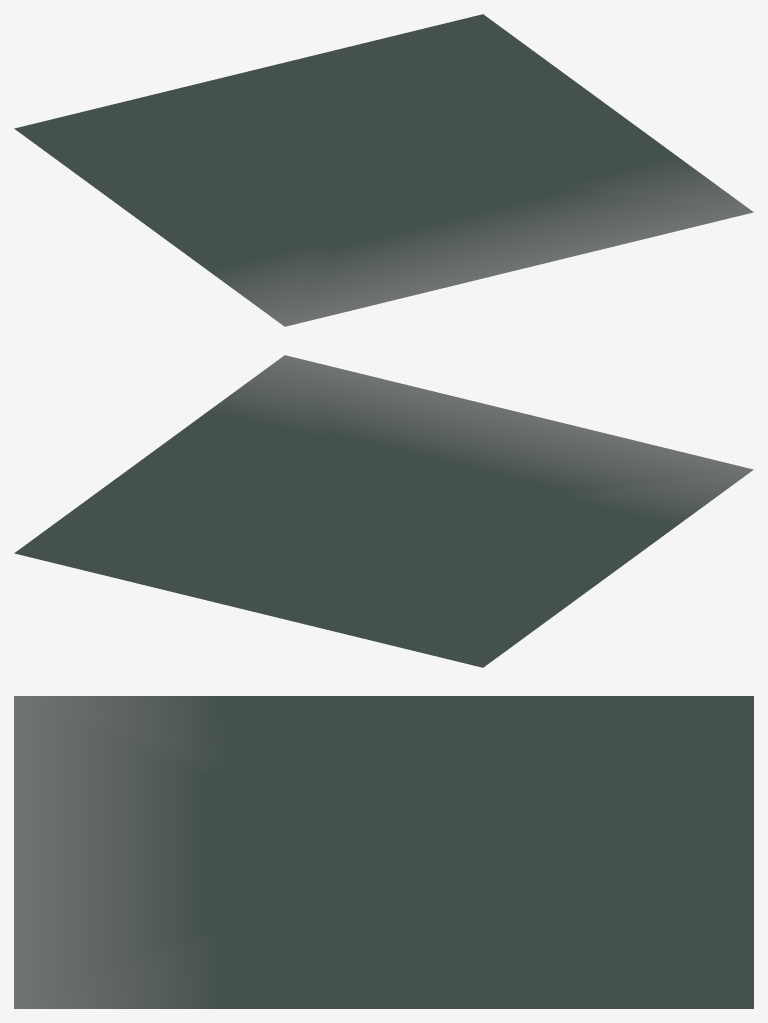
Rendered from Floor #1088803.fbx.
3 views of the same model, one above another, from view 1: azimuth 30°, elevation 25°; view 2: azimuth 150°, elevation 25°; view 3: azimuth 270°, elevation 25° (orthographic). The views are drawn at different scales.
Parts seen in each view (by area): view 1: Floor; view 2: Floor; view 3: Floor.
Boxes of the visible parts, x1,y1,x2,y2 form: Floor: (14, 14, 753, 326); Floor: (14, 355, 753, 667); Floor: (14, 696, 753, 1008).
Bounding box in the file's own units: 2200 × 9.54e-05 × 2200.
Materials: 1 (1 with a texture image).
